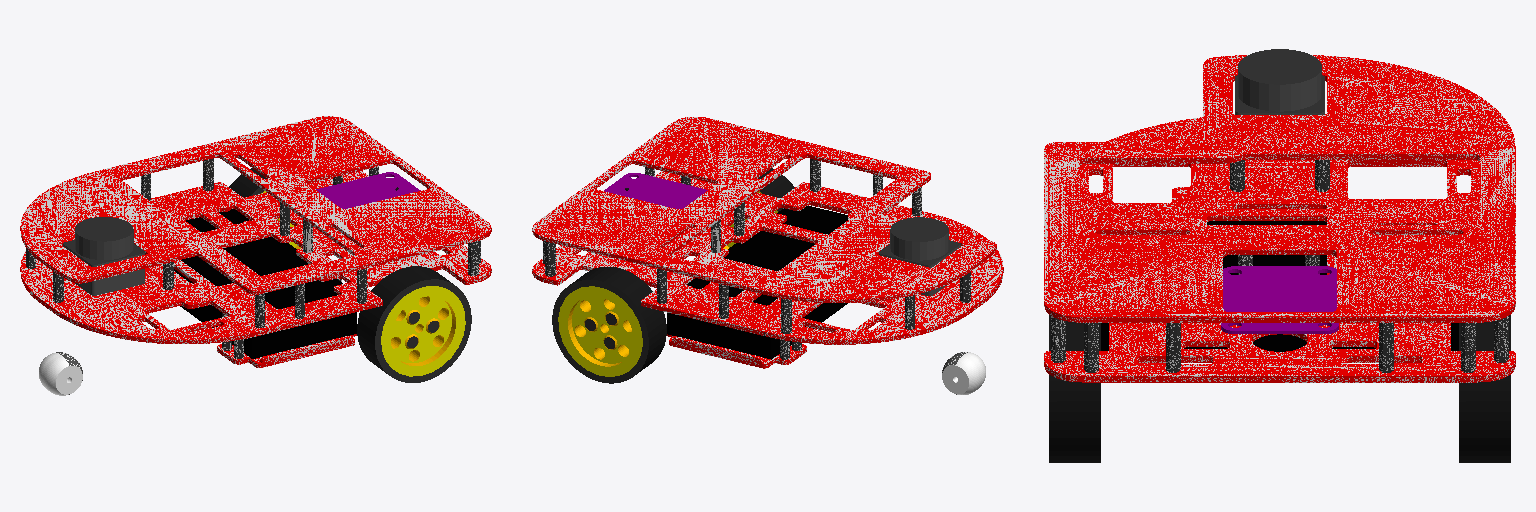
robot.urdf — caretta:
<?xml version="1.0" ?>
<robot name="caretta" xmlns:xacro="http://ros.org/wiki/xacro">

  <material name="blue">
    <color rgba="0.0 0.0 0.8 1.0"/>
  </material>
  <material name="grey">
    <color rgba="0.5 0.5 0.5 1.0"/>
  </material>
  <material name="red">
    <color rgba="0.8 0.0 0.0 1.0"/>
  </material>
  <material name="indigo">
    <color rgba="0.33 0.0 0.5 1.0"/>
  </material>
  <material name="yellow">
    <color rgba="1.0 1.0 0.0 1.0"/>
  </material>
  <material name="white">
    <color rgba="1.0 1.0 1.0 1.0"/>
  </material>
  <material name="black">
    <color rgba="0.01 0.01 0.01 0.9"/>
  </material>

  <link name="base_footprint"/>

  <joint name="base_joint" type="fixed">
    <parent link="base_footprint"/>
    <child link="base_link"/>
    <origin xyz="0.0 0.0 0.03425" rpy="0 0 0"/>
  </joint>
  <link name="base_link">
    <visual>
      <origin xyz="0 0 0" rpy="0 0 0"/>
      <geometry>
        <mesh filename="package://rosrider_description/meshes/caretta_body.dae" scale="1 1 1"/>
      </geometry>
    </visual>
  </link>

  <joint name="wheel_left_joint" type="continuous">
    <parent link="base_link"/>
    <child link="wheel_left_link"/>
    <origin xyz="0.0 0.087 0.0" rpy="-1.57 0 0"/>
    <axis xyz="0 0 1"/>
  </joint>
  <link name="wheel_left_link">
    <visual>
      <origin xyz="0 0 0" rpy="0 0 0"/>
      <geometry>
        <mesh filename="package://rosrider_description/meshes/wheel_left.dae" scale="1 1 1"/>
      </geometry>
    </visual>
  </link>

  <joint name="wheel_right_joint" type="continuous">
    <parent link="base_link"/>
    <child link="wheel_right_link"/>
    <origin xyz="0.0 -0.087 0.0" rpy="-1.57 0 0"/>
    <axis xyz="0 0 1"/>
  </joint>
  <link name="wheel_right_link">
    <visual>
      <origin xyz="0 0 0" rpy="0 0 0"/>
      <geometry>
        <mesh filename="package://rosrider_description/meshes/wheel_right.dae" scale="1 1 1"/>
      </geometry>
    </visual>
  </link>

  <joint name="wheel_steering_joint" type="continuous">
    <parent link="base_link"/>
    <child link="wheel_steering_link"/>
    <axis xyz="0 0 1"/>
    <origin xyz="-0.1842 0 -0.00875" rpy="0 0 0"/>
  </joint>
  <link name="wheel_steering_link">
  </link>

  <joint name="wheel_castor_joint" type="continuous">
    <parent link="wheel_steering_link"/>
    <child link="wheel_castor_link"/>
    <axis xyz="0 1 0"/>
    <origin xyz="-0.016 0 -0.01275" rpy="0 0 0"/>
  </joint>
  <link name="wheel_castor_link">
      <visual>
        <geometry>
          <mesh filename="package://rosrider_description/meshes/vac_wheel.dae" scale="1 1 1"/>
        </geometry>
      </visual>
  </link>

  <joint name="scan_joint" type="fixed">
    <parent link="base_link"/>
    <child link="base_scan"/>
    <origin xyz="-0.1692 0.0 0.06125" rpy="0 0 0"/>
  </joint>
  <link name="base_scan">
    <visual>
      <origin xyz="0 0 0" rpy="0 0 0"/>
      <geometry>
        <mesh filename="package://rosrider_description/meshes/ldlidar.dae" scale="1 1 1"/>
      </geometry>
    </visual>
  </link>

  <joint name="imu_joint" type="fixed">
    <parent link="base_link"/>
    <child link="imu_link"/>
    <origin xyz="0.0378 0.0 0.0473" rpy="0 0 0"/>
  </joint>
  <link name="imu_link">
    <visual>
      <origin xyz="0 0 0" rpy="0 0 0"/>
      <geometry>
        <mesh filename="package://rosrider_description/meshes/fximu3e.dae" scale="1 1 1"/>
      </geometry>
    </visual>
  </link>

  <joint name="battery_joint" type="fixed">
    <parent link="base_link"/>
    <child link="battery_link"/>
    <origin xyz="-0.07183 0 0.0116" rpy="0 0 0"/>
  </joint>
  <link name="battery_link">
    <visual>
      <origin xyz="0 0 0" rpy="0 0 0"/>
      <geometry>
        <box size="0.0736 0.1535 0.0276"/>
      </geometry>
      <material name="black"/>
    </visual>
  </link>

</robot>

--- Facts derived from the render (not from the file) ---
3 views of the same robot in one strip: view 1: azimuth 30°, elevation 25°; view 2: azimuth 150°, elevation 25°; view 3: azimuth 270°, elevation 25° (orthographic).
Robot: caretta — 9 links, 8 joints (4 continuous, 4 fixed); root link base_footprint; default pose: all joints at 0.
Links seen in each view (by area): view 1: base_link, wheel_right_link, battery_link, base_scan, imu_link, wheel_castor_link, wheel_left_link; view 2: base_link, wheel_left_link, battery_link, base_scan, imu_link, wheel_castor_link, wheel_right_link; view 3: base_link, imu_link, base_scan, wheel_left_link, wheel_right_link, battery_link.
Link boxes in pixels (x1=…): base_link: x1=20, y1=116, x2=491, y2=367; wheel_right_link: x1=357, y1=266, x2=471, y2=382; battery_link: x1=174, y1=209, x2=356, y2=358; base_scan: x1=63, y1=217, x2=144, y2=295; imu_link: x1=316, y1=172, x2=420, y2=208; wheel_castor_link: x1=39, y1=352, x2=82, y2=395; wheel_left_link: x1=229, y1=168, x2=300, y2=248; base_link: x1=532, y1=117, x2=1003, y2=368; wheel_left_link: x1=552, y1=267, x2=666, y2=383; battery_link: x1=667, y1=206, x2=847, y2=359; base_scan: x1=879, y1=217, x2=960, y2=295; imu_link: x1=604, y1=173, x2=707, y2=208; wheel_castor_link: x1=942, y1=352, x2=985, y2=394; wheel_right_link: x1=723, y1=168, x2=794, y2=249; base_link: x1=1044, y1=55, x2=1515, y2=382; imu_link: x1=1221, y1=266, x2=1338, y2=333; base_scan: x1=1235, y1=49, x2=1324, y2=114; wheel_left_link: x1=1459, y1=315, x2=1510, y2=462; wheel_right_link: x1=1049, y1=315, x2=1100, y2=462; battery_link: x1=1101, y1=221, x2=1458, y2=351.
Bounding box of the posed robot: 0.2668 × 0.2 × 0.1031 m (x, y, z).
6 mesh visuals loaded from 6 distinct referenced files (6 Collada DAE).
